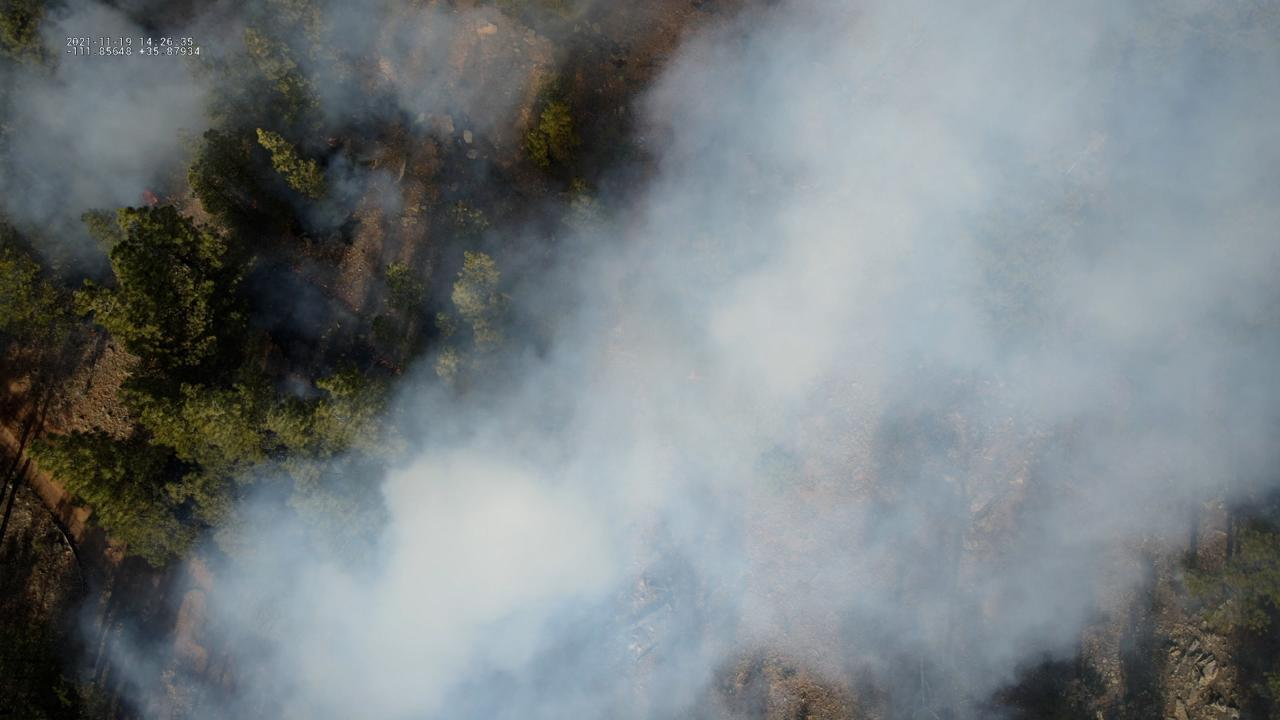fire: (140, 187, 159, 208), (323, 136, 337, 148), (249, 199, 260, 210)
smoke: (0, 0, 1280, 720)
